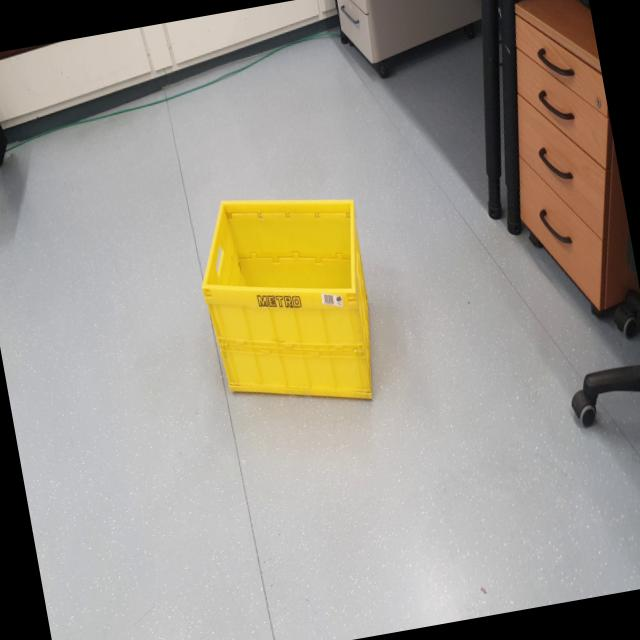box: (178, 145, 402, 459)
